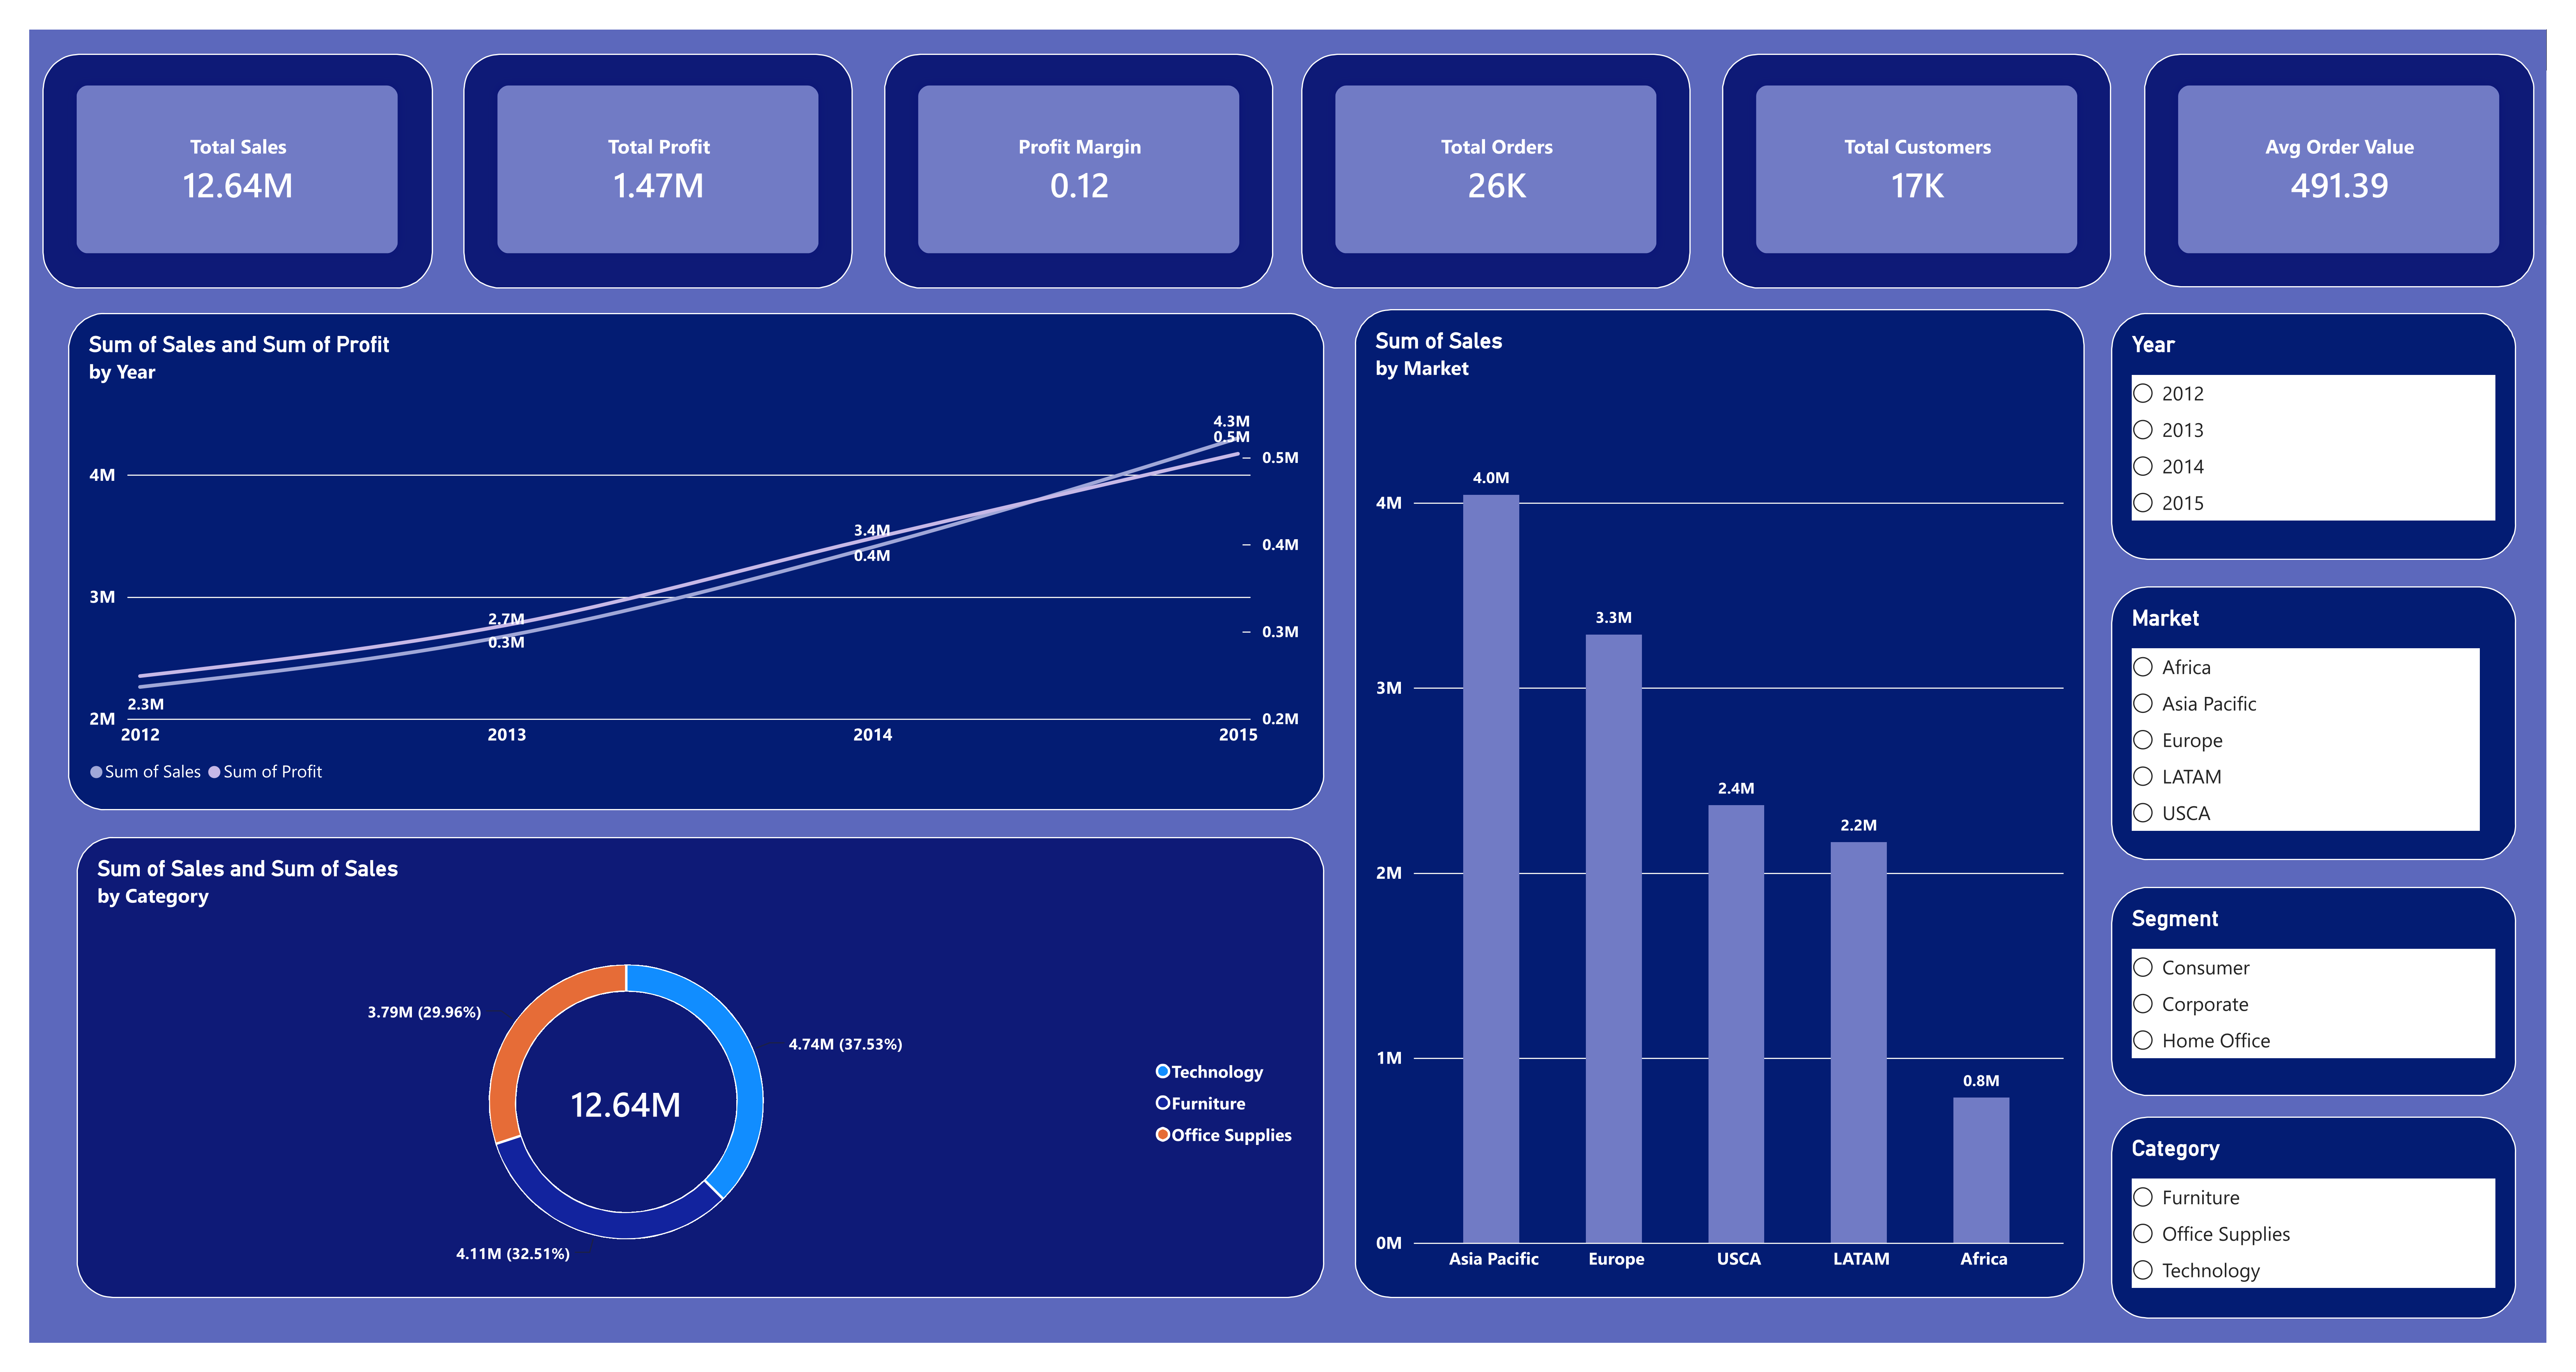

The dashboard page shown, as its layout file describes it:
{"tool":"powerbi","page":{"name":"Page 1","canvas":[2070,1080],"ordinal":0},"visuals":[{"type":"cardVisual","fields":{"Data":["Orders.Total Sales"]},"box":[11.3,19.8,320.3,192.8],"z":0},{"type":"cardVisual","fields":{"Data":["Orders.Total Profit"]},"box":[357.2,19.8,320.3,192.8],"z":1000},{"type":"cardVisual","fields":{"Data":["Orders.Total Orders"]},"box":[1046,19.8,320.3,192.8],"z":2000},{"type":"cardVisual","fields":{"Data":["Orders.Total Customers"]},"box":[1391.8,19.8,320.3,192.8],"z":3000},{"type":"cardVisual","fields":{"Data":["Orders.Profit Margin"]},"box":[703,19.8,320.3,192.8],"z":4000},{"type":"cardVisual","fields":{"Data":["Orders.Avg Order Value"]},"box":[1739.2,19.5,320.3,192.8],"z":5000},{"type":"lineChart","fields":{"Y":["Sum(Orders.Sales)"],"Category":["Orders.Order Date.Variation.Date Hierarchy.Year"],"Y2":["Sum(Orders.Profit)"]},"box":[31.8,232.6,1033.4,408.9],"z":6000},{"type":"clusteredColumnChart","fields":{"Category":["Orders.Market"],"Y":["Sum(Orders.Sales)"]},"box":[1089.7,230.2,599.9,813],"z":7000},{"type":"donutChart","fields":{"Category":["Orders.Category"],"Y":["Sum(Orders.Sales)"]},"box":[39.2,663.6,1026,379.6],"z":8000},{"type":"listSlicer","fields":{"Values":["Orders.Order Date.Variation.Date Hierarchy.Year"]},"box":[1711.7,232.6,333,203.2],"z":9000},{"type":"listSlicer","fields":{"Values":["Orders.Market"]},"box":[1711.7,457.9,333,225.3],"z":10000},{"type":"listSlicer","fields":{"Values":["Orders.Segment"]},"box":[1711.7,705.2,333,171.4],"z":11000},{"type":"listSlicer","fields":{"Values":["Orders.Category"]},"box":[1711.7,893.8,333,166.5],"z":12000}]}

Visuals, with their boxes in screenshot pixels (x1, y1, x2, y2):
cardVisual - Orders.Total Sales: 41,38,434,274
cardVisual - Orders.Total Profit: 465,38,858,274
cardVisual - Orders.Total Orders: 1311,38,1703,274
cardVisual - Orders.Total Customers: 1735,38,2128,274
cardVisual - Orders.Profit Margin: 890,38,1283,274
cardVisual - Orders.Avg Order Value: 2161,37,2554,274
lineChart - Sum(Orders.Sales) x Orders.Order Date.Variation.Date Hierarchy.Year: 66,299,1334,800
clusteredColumnChart - Orders.Market x Sum(Orders.Sales): 1364,296,2100,1294
donutChart - Orders.Category x Sum(Orders.Sales): 75,828,1334,1294
listSlicer - Orders.Order Date.Variation.Date Hierarchy.Year: 2127,299,2536,548
listSlicer - Orders.Market: 2127,575,2536,852
listSlicer - Orders.Segment: 2127,879,2536,1089
listSlicer - Orders.Category: 2127,1110,2536,1314
